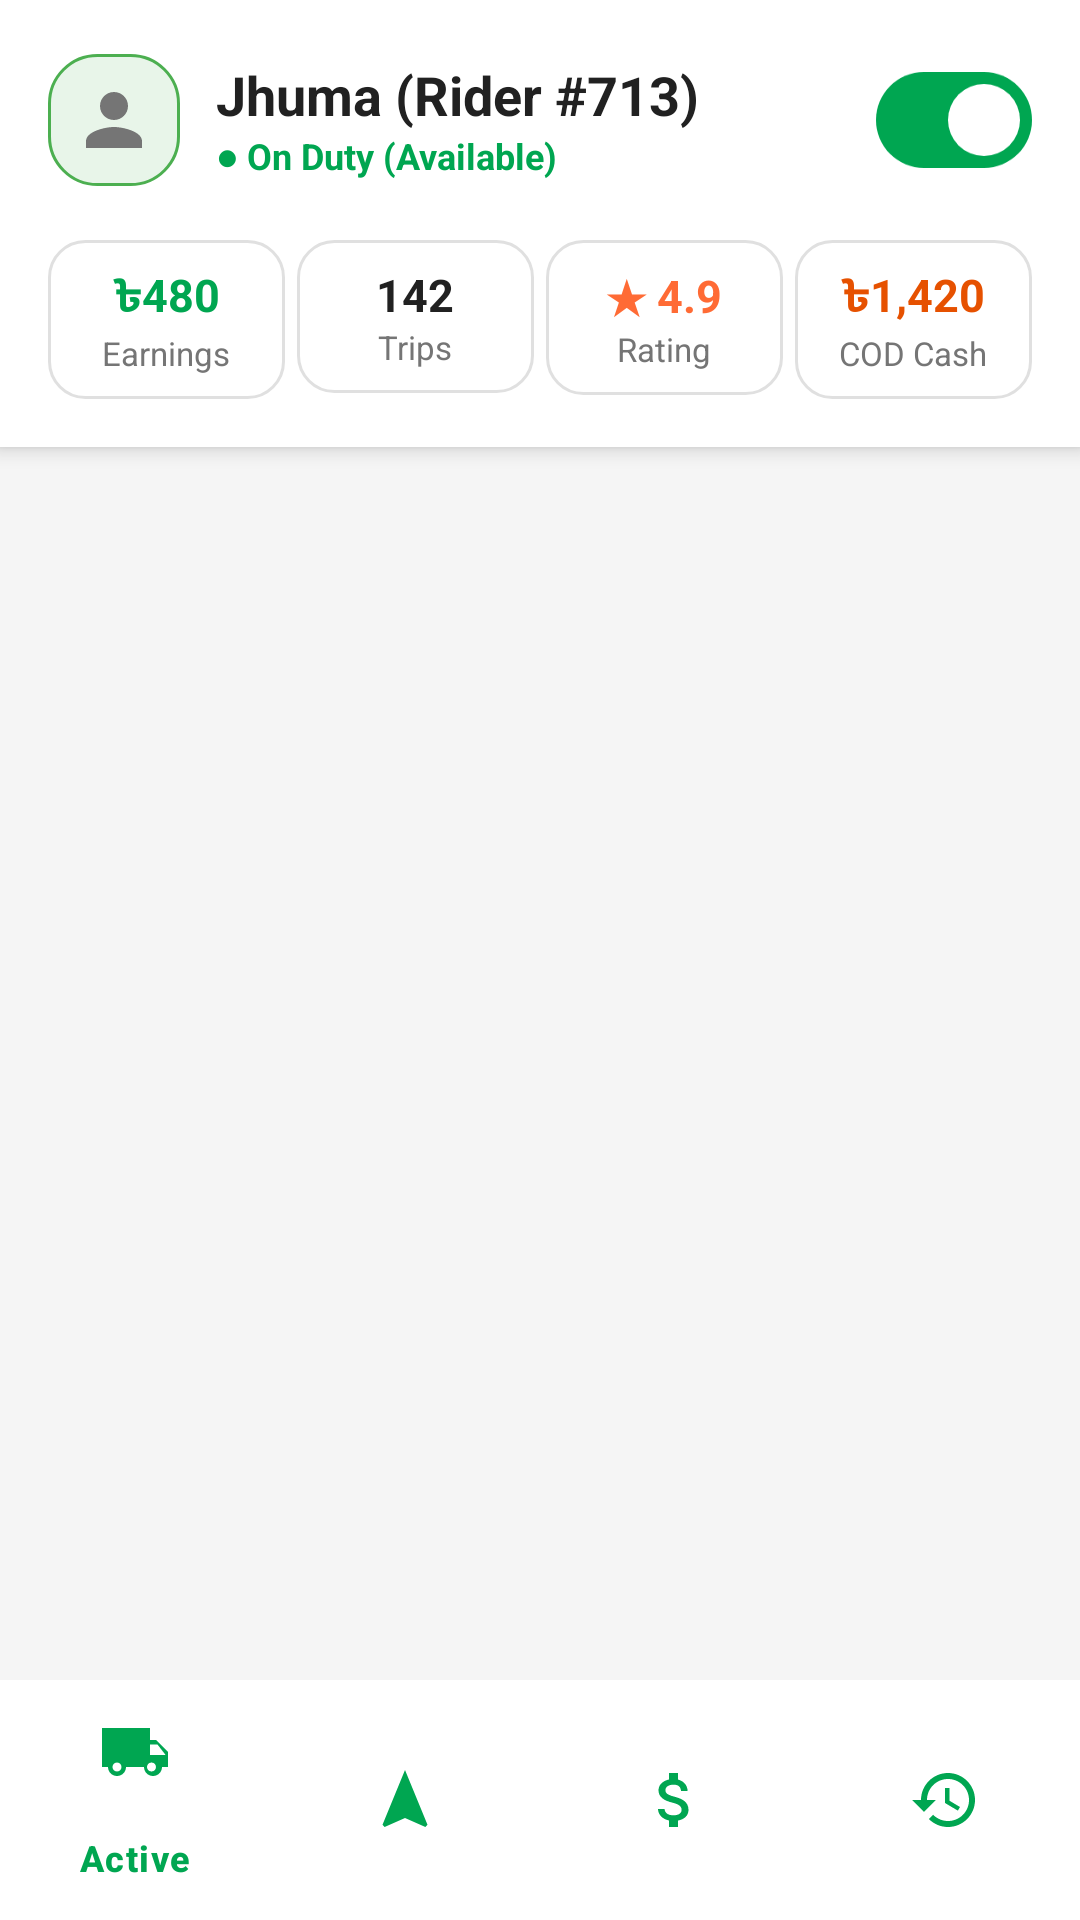

Named icons in this screenshot (1080px x 1920px) and their centers, point (x, y):
Rider Profile: point (114, 120)
